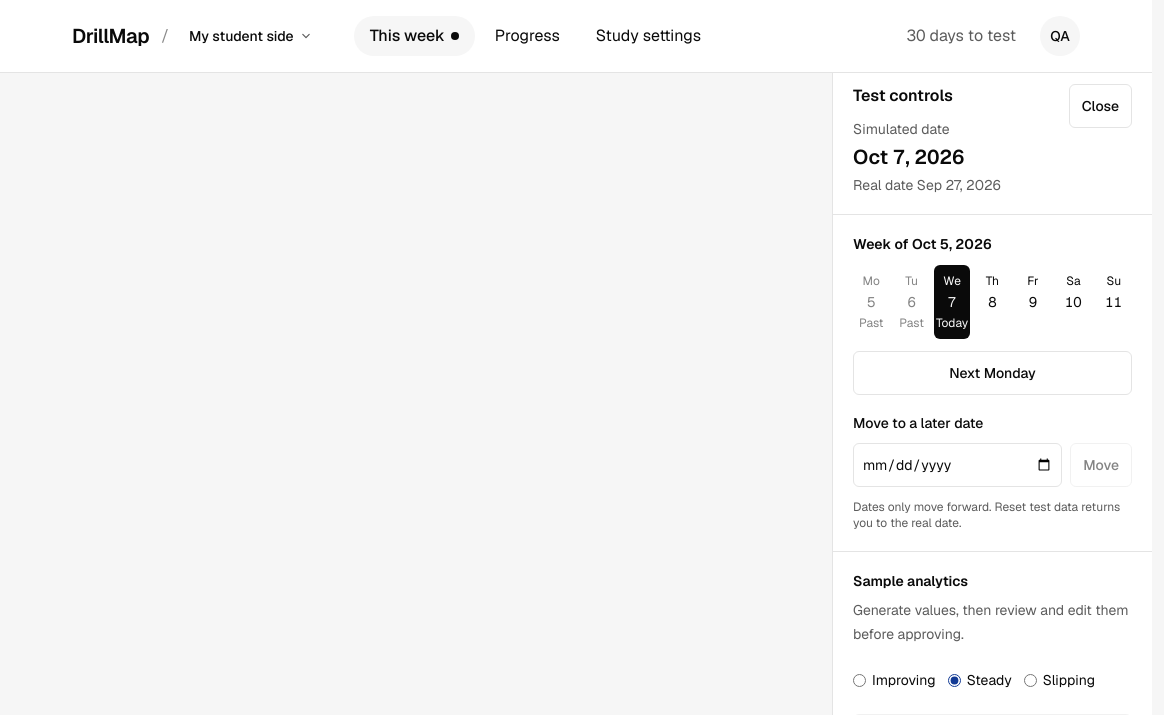
Test: admin test dock › names the closed dock with its visible simulated date
The image size is (1164, 715).
Click the button with aria-label "Close test controls" at {"x": 1100, "y": 106}, box [1069, 84, 1132, 128]
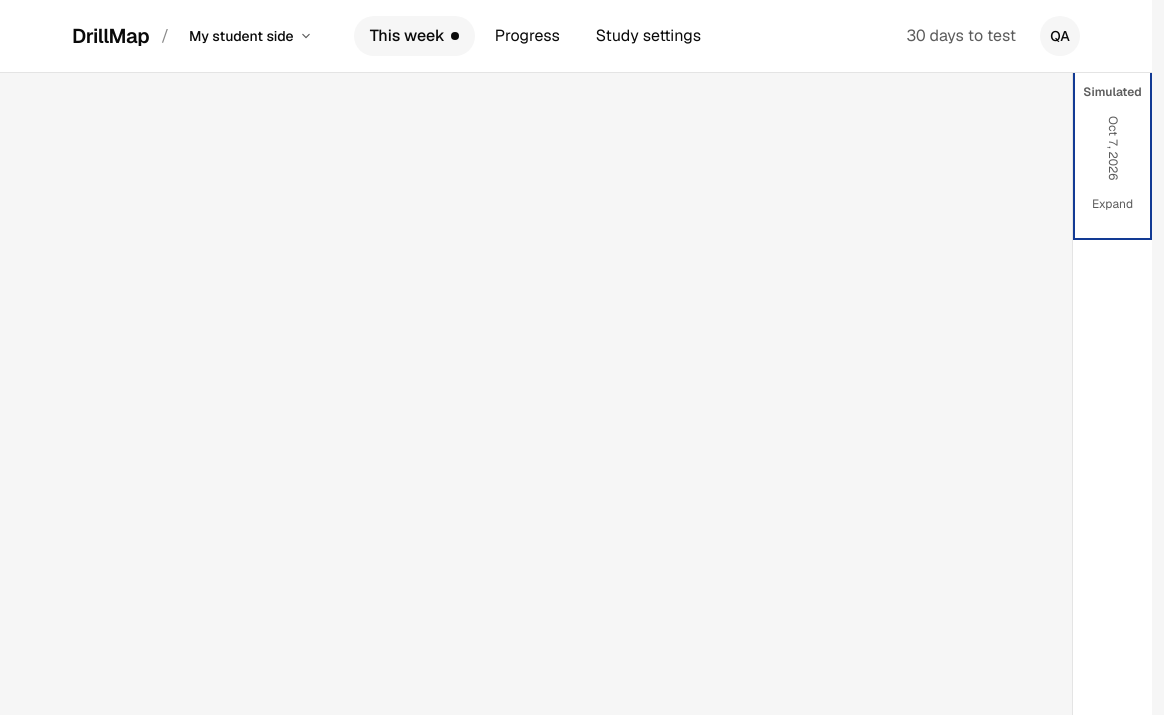
Check: the button named "Simulated Oct 7, 2026 Expand test controls" is shown, box [1073, 64, 1152, 240]
